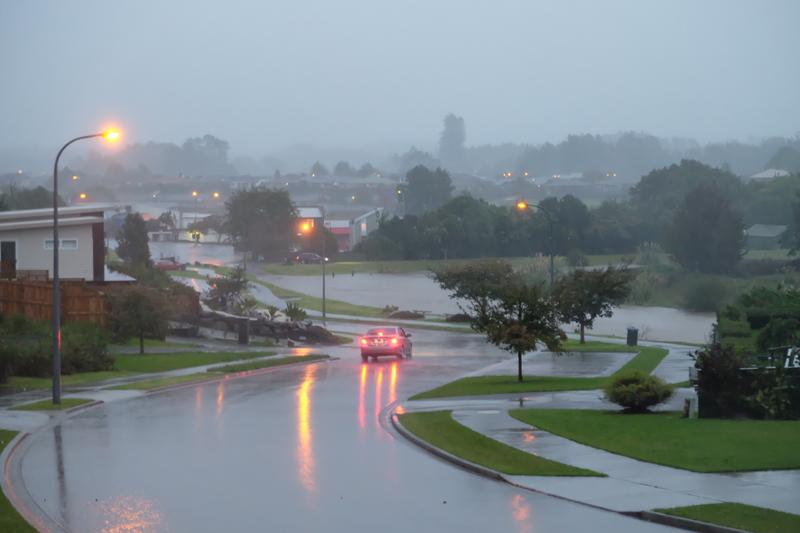car: (361, 325, 414, 363), (147, 258, 183, 273), (295, 251, 330, 265)
